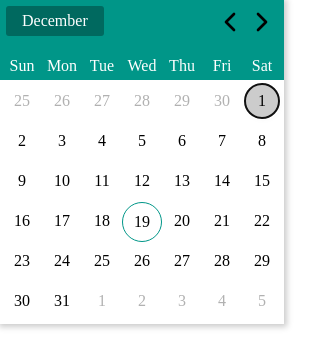
Test: Datepicker › should correctly render the control label
Click the button "December": (55, 21) [6,6,104,36]
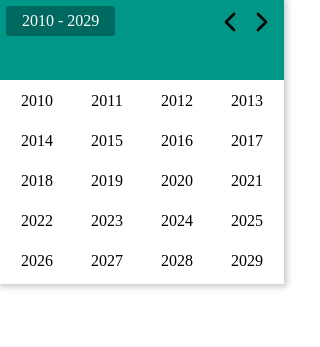
Check: the button "2010 - 2029" is shown
Click the button "2010 - 2029": (61, 21) [6,6,115,36]
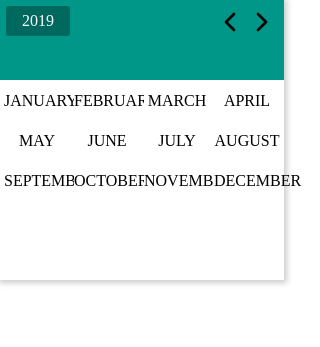
Check: the button "2019" is shown, box [6,6,70,36]
